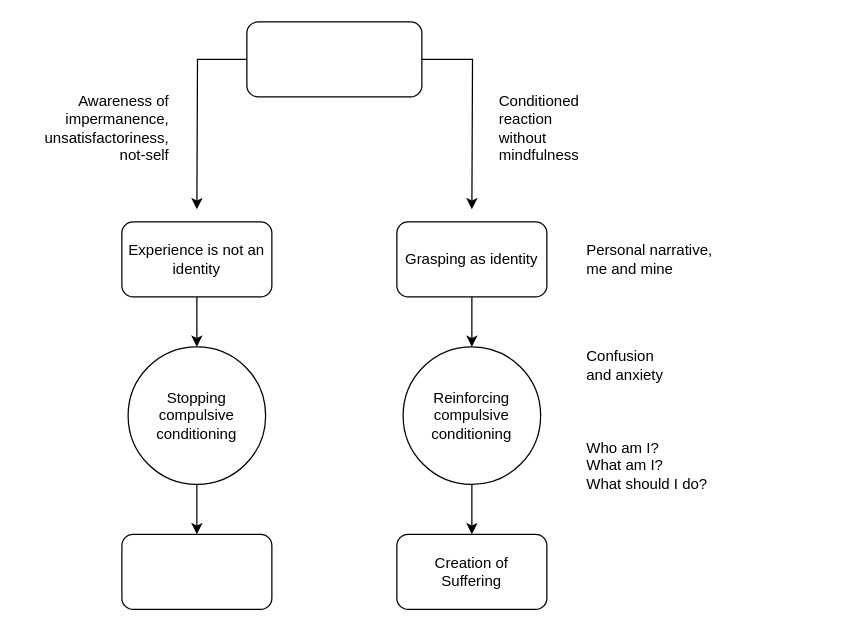
Image size: 855x631. Some labels were removed from this diagram. The shapes that lost their labels are listed below. From the top down, each one's centre as x and y in pixels, then its label:
At point 334,59: "Feeling as direction of movement".
At point 196,571: "Cessation of Suffering".
